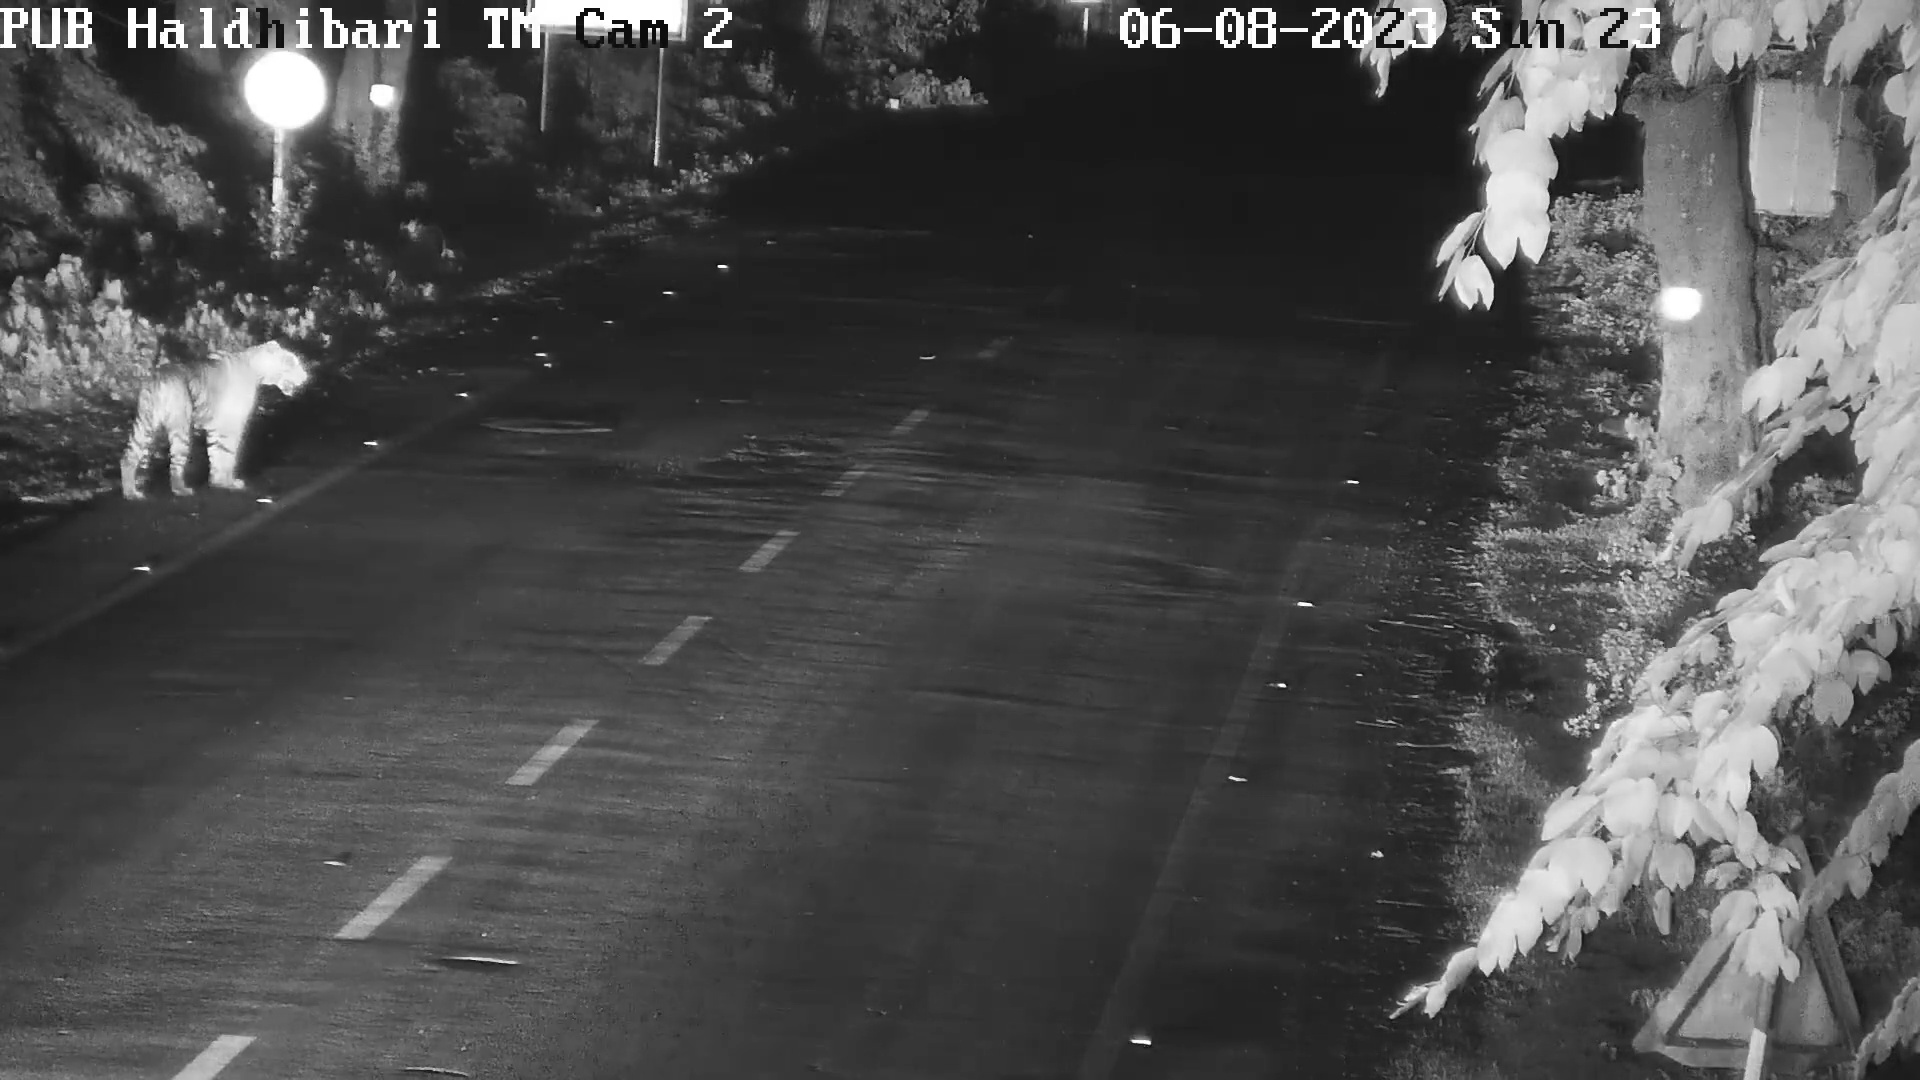tigers: (127, 344, 309, 498)
